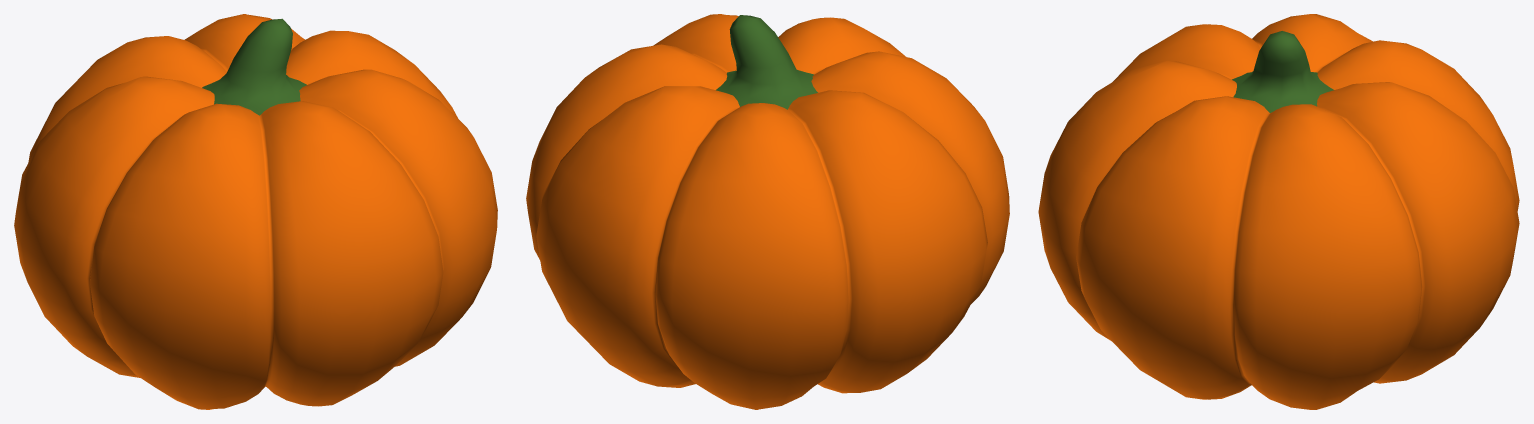
File: pumpkin.fbx
3 renders of one model, left to right at view 1: azimuth 30°, elevation 25°; view 2: azimuth 150°, elevation 25°; view 3: azimuth 270°, elevation 25°, orthographic.
Visible parts, largest first — view 1: fruit stand.001; view 2: fruit stand.001; view 3: fruit stand.001.
Boxes of the visible parts, x1,y1,x2,y2 form: fruit stand.001: (14, 14, 497, 409); fruit stand.001: (526, 14, 1009, 409); fruit stand.001: (1038, 14, 1519, 409).
Bounding box in the file's own units: 46.15 × 35.13 × 45.88.
